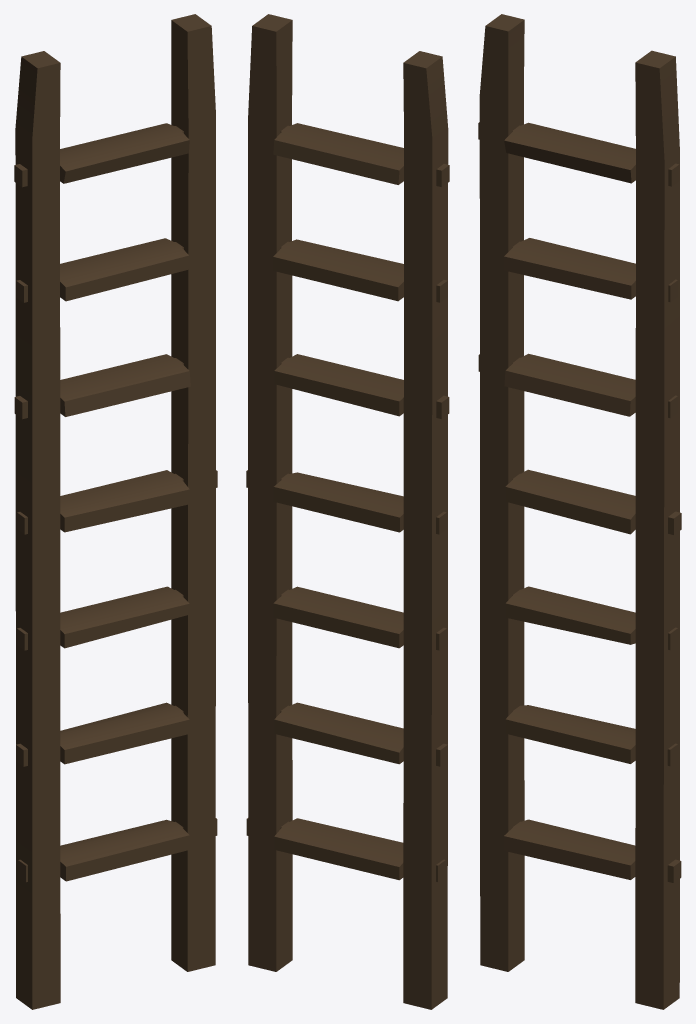
File: S_Ladder.fbx
The picture shows the model from 3 angles, left to right: view 1: azimuth 30°, elevation 25°; view 2: azimuth 150°, elevation 25°; view 3: azimuth 330°, elevation 25°; orthographic projection.
Parts seen in each view (by area): view 1: S_Ladder; view 2: S_Ladder; view 3: S_Ladder.
Part boxes in pixels (bbox=[...]): S_Ladder: bbox=[14, 14, 217, 1009]; S_Ladder: bbox=[246, 14, 449, 1009]; S_Ladder: bbox=[478, 14, 681, 1009].
Size of the model in its own units: 58.7 by 270 by 13.47.
